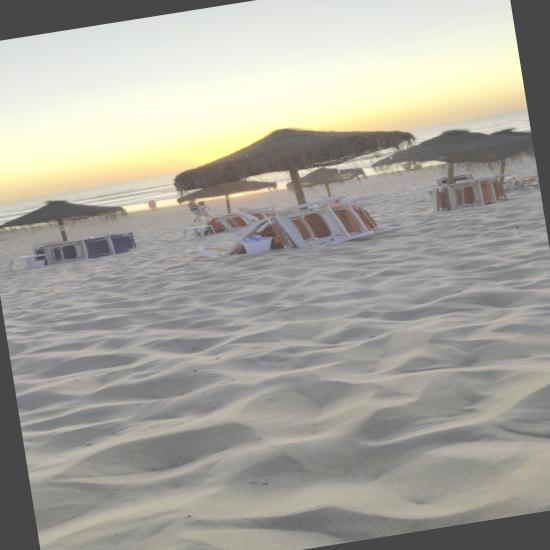Clear plastic bottle: (0, 281, 129, 330)
Plastic bottle cap: (102, 314, 128, 330)
Styrofoam piece: (78, 200, 320, 284)
